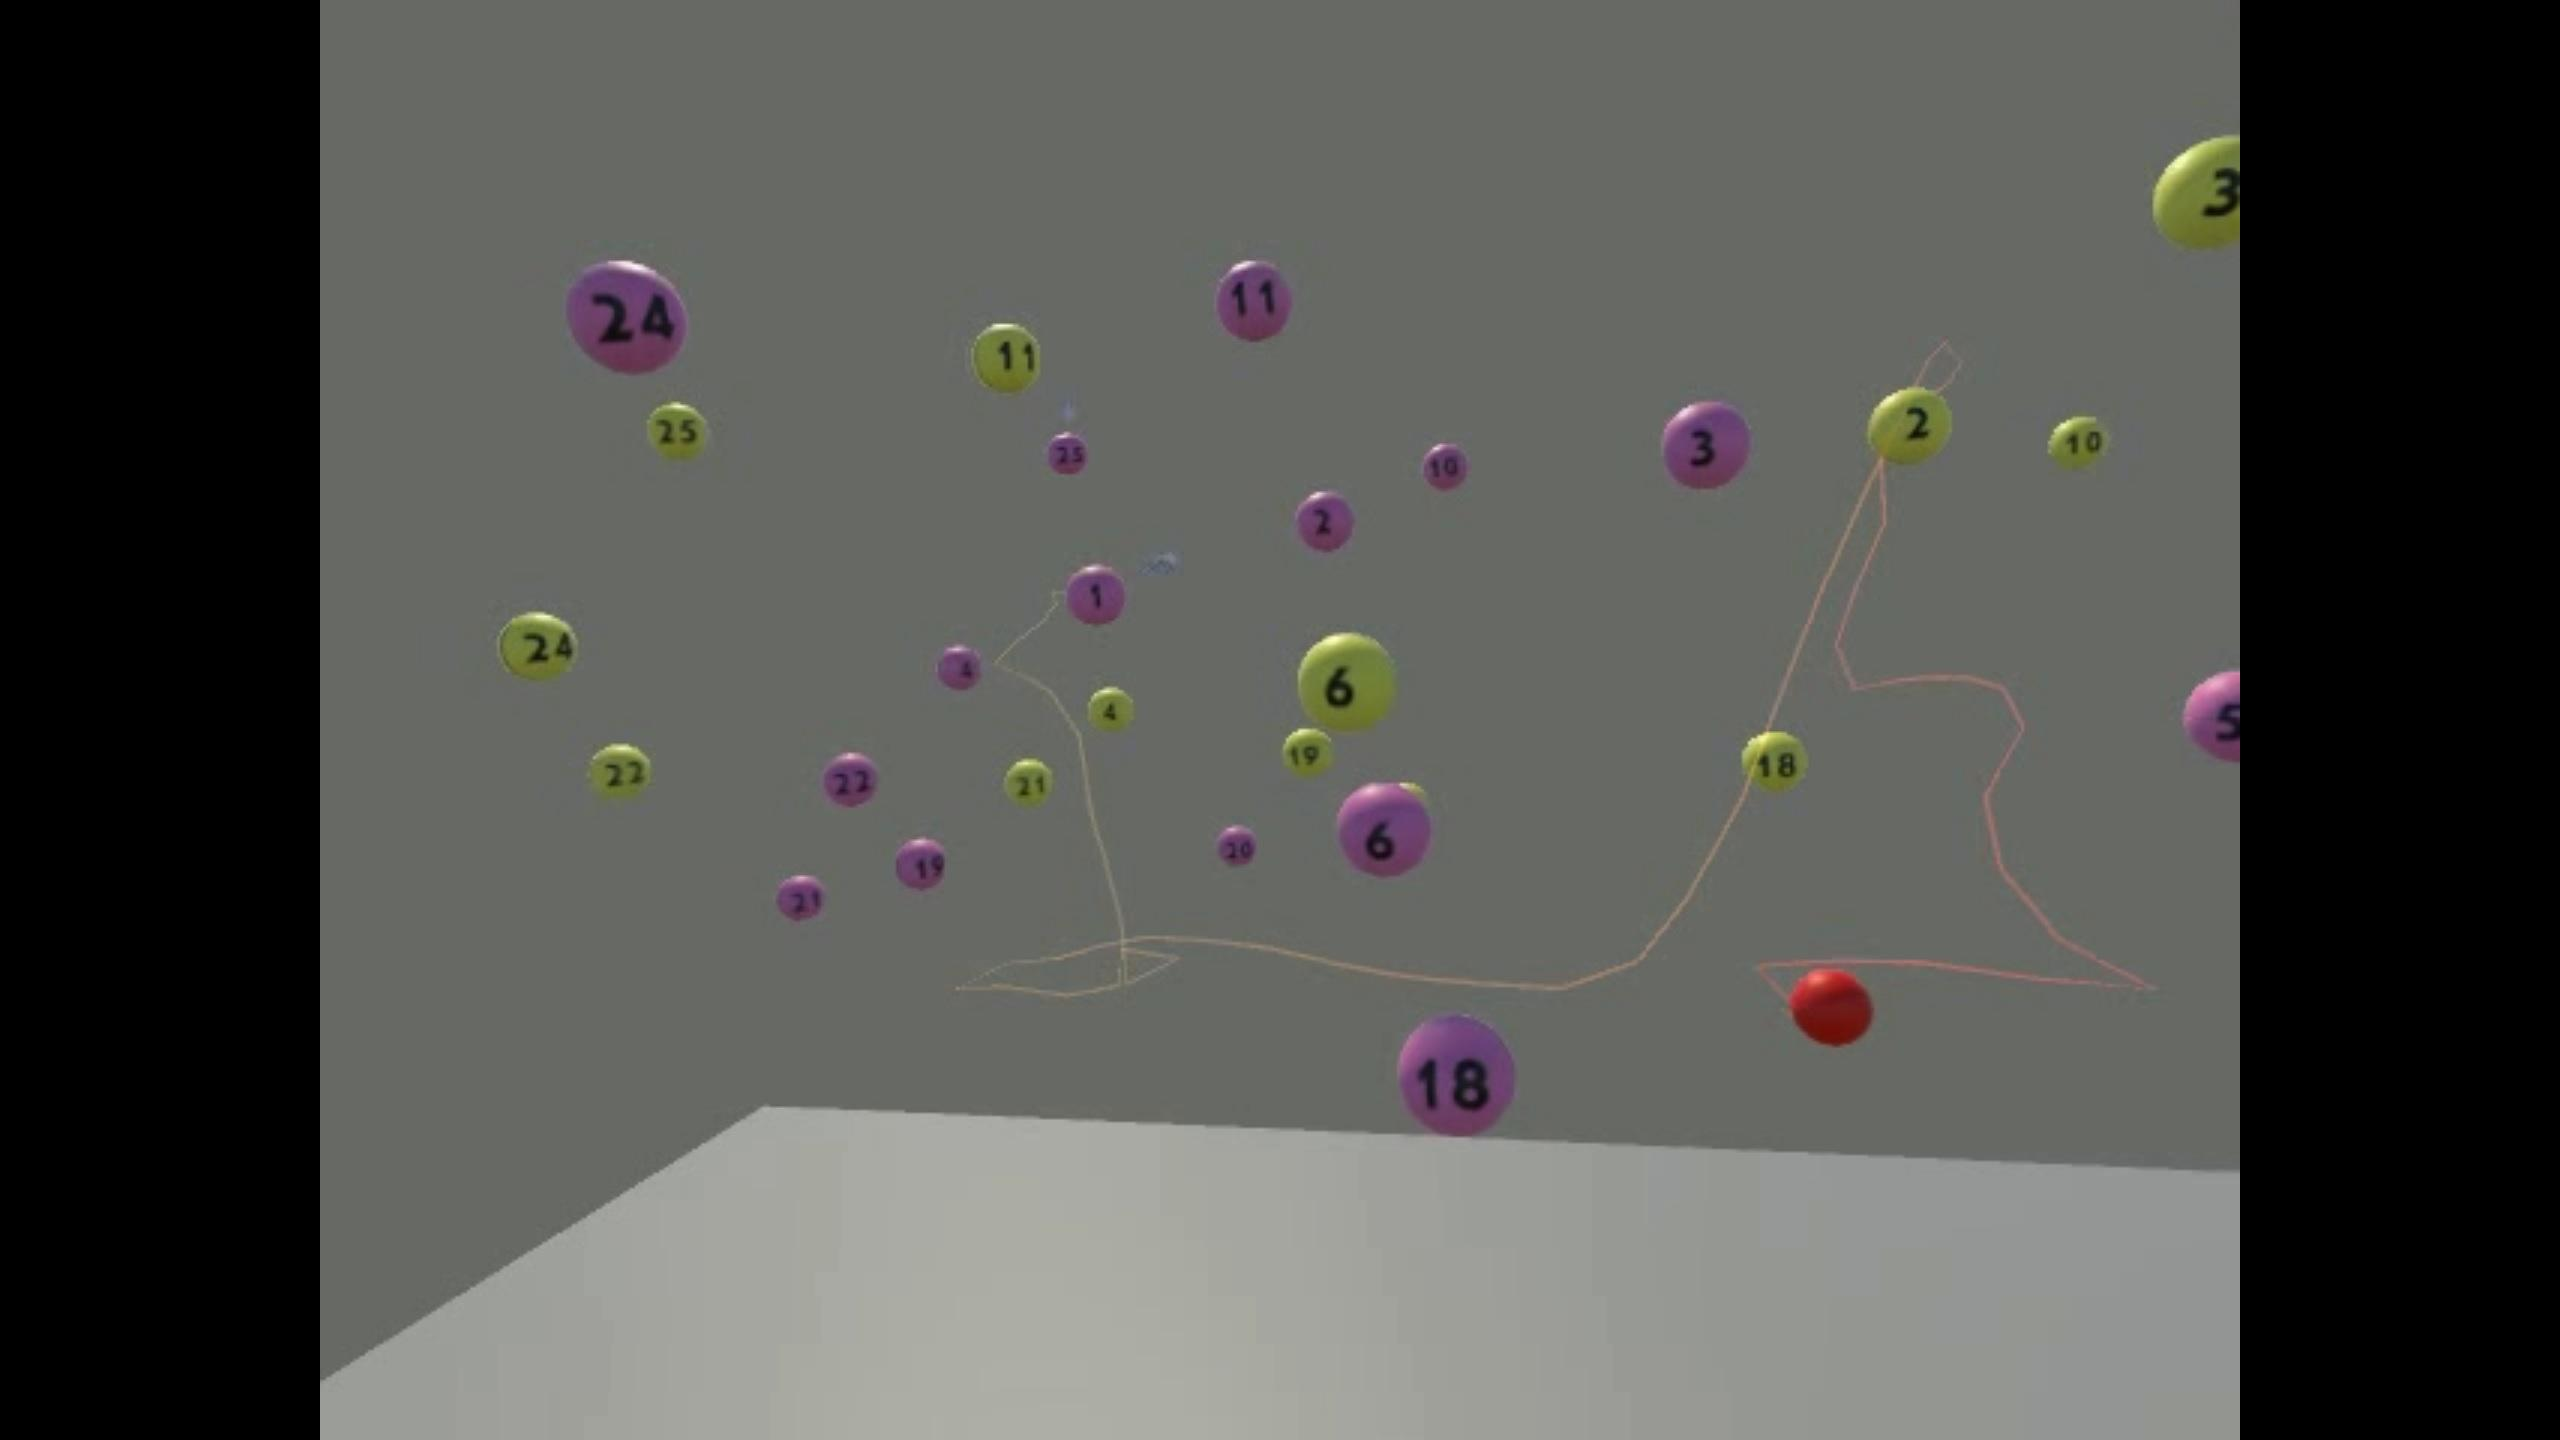ball_01_pink: (1067, 566, 1125, 624)
ball_02_pink: (1296, 492, 1354, 552)
ball_02_yellow: (1869, 387, 1953, 464)
ball_03_pink: (1663, 401, 1749, 491)
ball_04_pink: (939, 644, 983, 693)
ball_04_yellow: (1088, 687, 1131, 730)
ball_06_pink: (1336, 784, 1429, 876)
ball_06_yellow: (1296, 631, 1396, 731)
ball_10_pink: (1424, 443, 1468, 489)
ball_10_yellow: (2050, 415, 2110, 469)
ball_11_pink: (1215, 260, 1289, 339)
ball_11_yellow: (974, 324, 1039, 392)
ball_18_pink: (1394, 1015, 1514, 1132)
ball_18_yellow: (1744, 733, 1809, 793)
ball_19_pink: (897, 837, 948, 890)
ball_19_yellow: (1282, 730, 1335, 774)
ball_20_pink: (1218, 826, 1257, 867)
ball_21_pink: (777, 877, 825, 921)
ball_21_yellow: (1007, 760, 1051, 804)
ball_22_pink: (823, 756, 877, 807)
ball_22_yellow: (589, 744, 652, 798)
ball_24_pink: (568, 260, 687, 375)
ball_24_yellow: (499, 614, 578, 679)
ball_25_pink: (1050, 434, 1087, 471)
ball_25_yellow: (649, 404, 707, 457)
ball_unknown: (2156, 134, 2244, 250), (2182, 672, 2244, 761), (1403, 779, 1429, 795)
user_cursor: (1790, 965, 1873, 1050)
